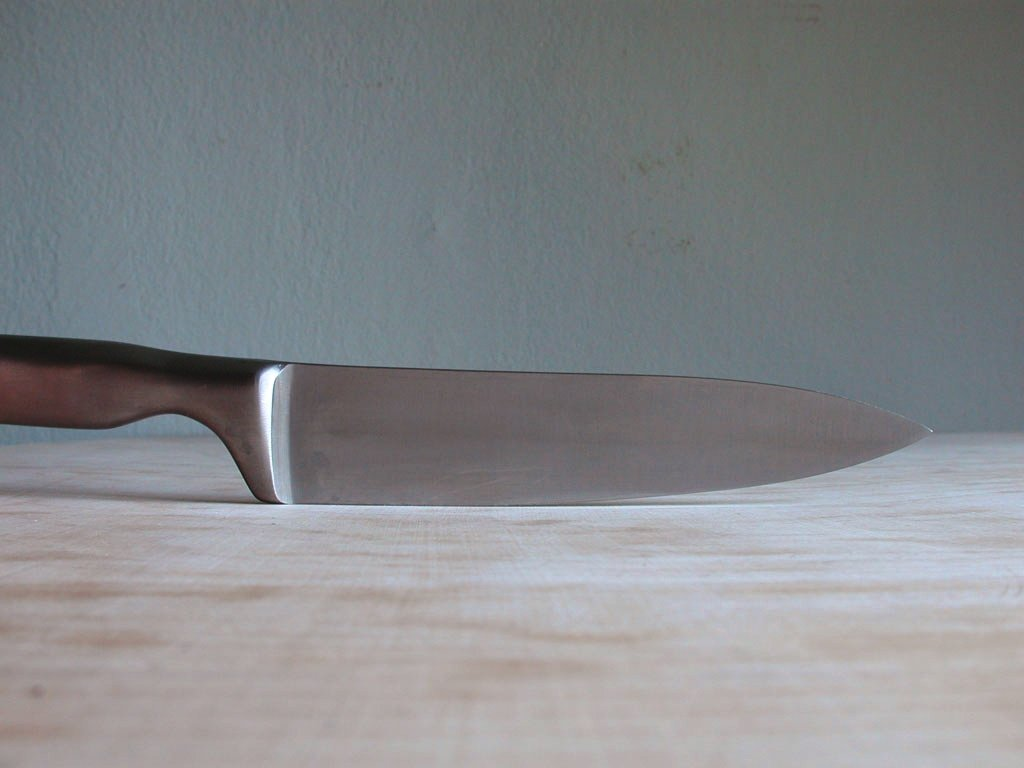knife: (3, 330, 936, 507)
